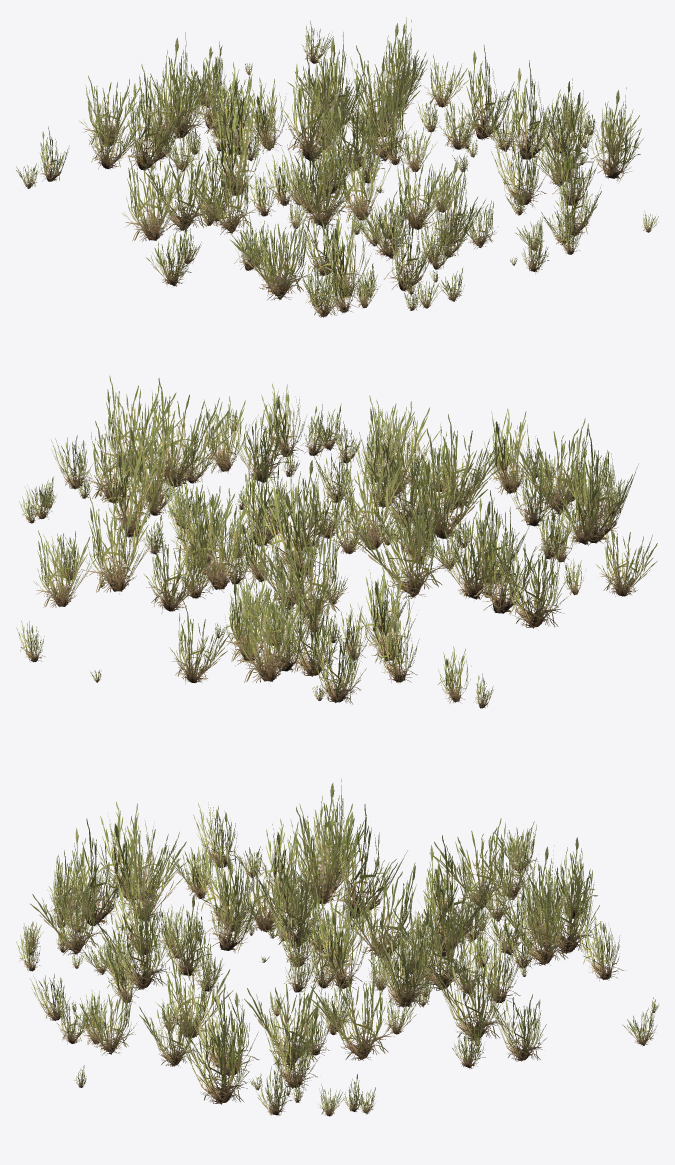
Rendered from simple_grass_chunks_opt.glb.
3 renders of one model, top to bottom at view 1: azimuth 30°, elevation 25°; view 2: azimuth 150°, elevation 25°; view 3: azimuth 270°, elevation 25°, orthographic. The views are drawn at different scales.
Visible parts, largest first — view 1: grass_clump_patch, grass_tuft_tall; view 2: grass_clump_patch, grass_tuft_tall; view 3: grass_clump_patch, grass_tuft_tall.
Part boxes in pixels (left/top/right/bottom): grass_clump_patch: left=16, top=17, right=658, bottom=317; grass_tuft_tall: left=318, top=99, right=379, bottom=171; grass_clump_patch: left=16, top=375, right=657, bottom=708; grass_tuft_tall: left=280, top=458, right=335, bottom=551; grass_clump_patch: left=16, top=779, right=658, bottom=1116; grass_tuft_tall: left=302, top=880, right=381, bottom=970.
Size of the model in its own units: 2.59 by 0.7452 by 2.54.
Materials: 2 (2 with a texture image).
